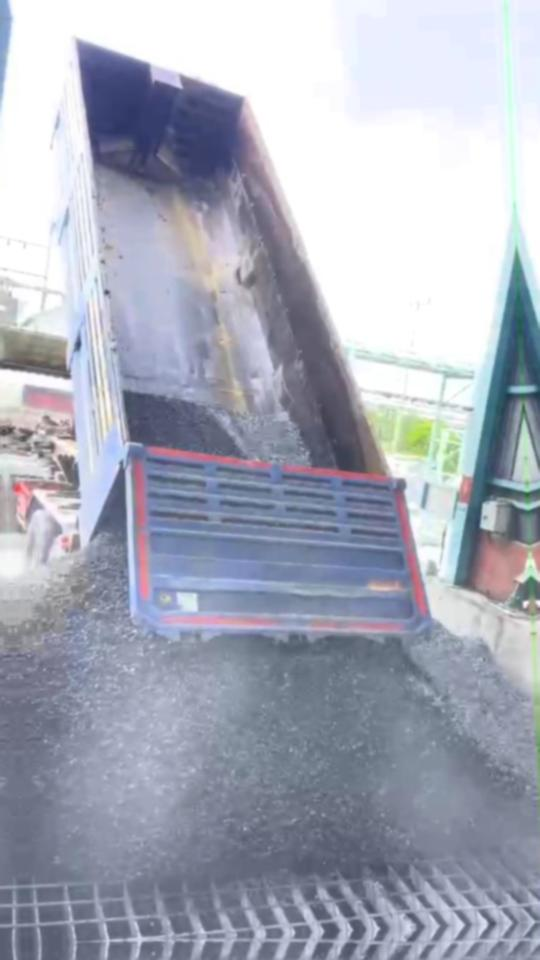gravel: (10, 537, 539, 881), (124, 392, 309, 464)
